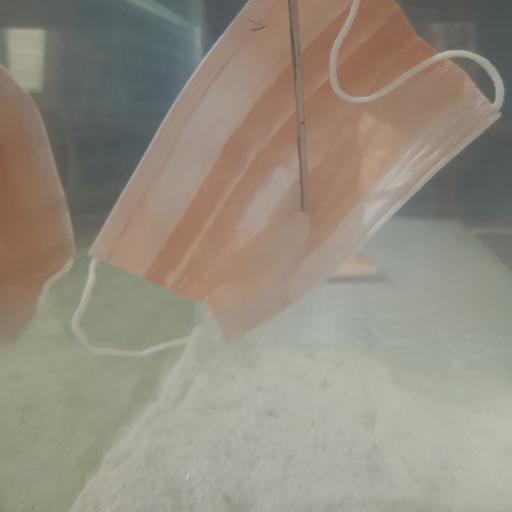mask: (67, 0, 512, 358)
